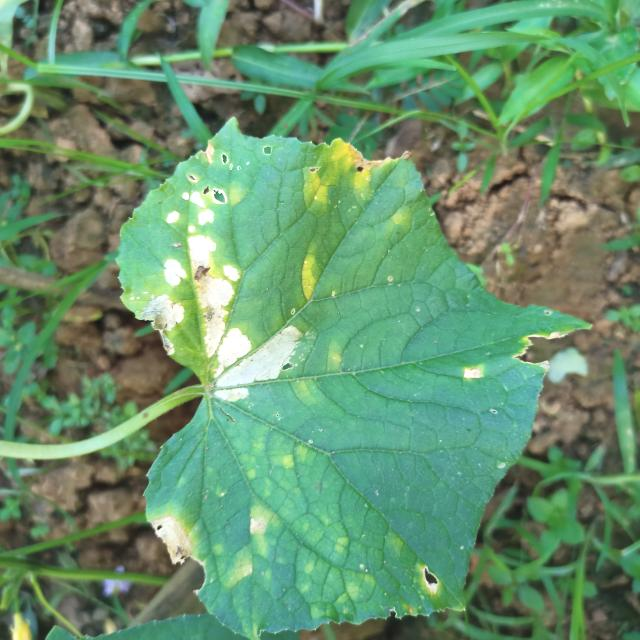disease_cucumber: (145, 126, 303, 407), (217, 500, 306, 595), (298, 133, 376, 219), (288, 248, 324, 306)
